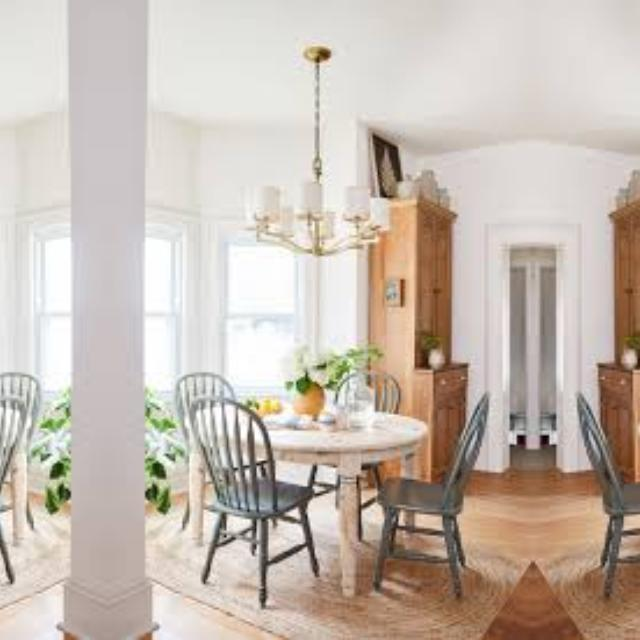obstacle: (165, 349, 318, 609), (386, 403, 524, 619), (540, 403, 640, 619), (0, 349, 49, 609)
